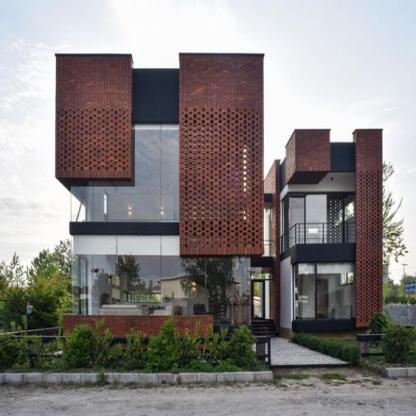Balcony: (281, 223, 383, 261)
Building Outline: (54, 52, 384, 354)
Door: (251, 280, 265, 319)
Facade: (54, 53, 384, 354)
Floor Slab: (69, 222, 251, 234), (281, 247, 383, 261), (252, 258, 272, 266)
Glass Wall: (71, 125, 251, 221), (71, 235, 251, 324), (282, 194, 367, 253), (292, 263, 367, 322)
Window: (252, 203, 272, 257), (252, 267, 272, 279), (266, 280, 272, 319)
